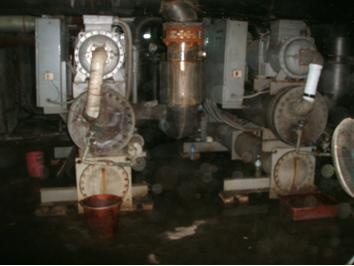bucket: (81, 193, 123, 233)
